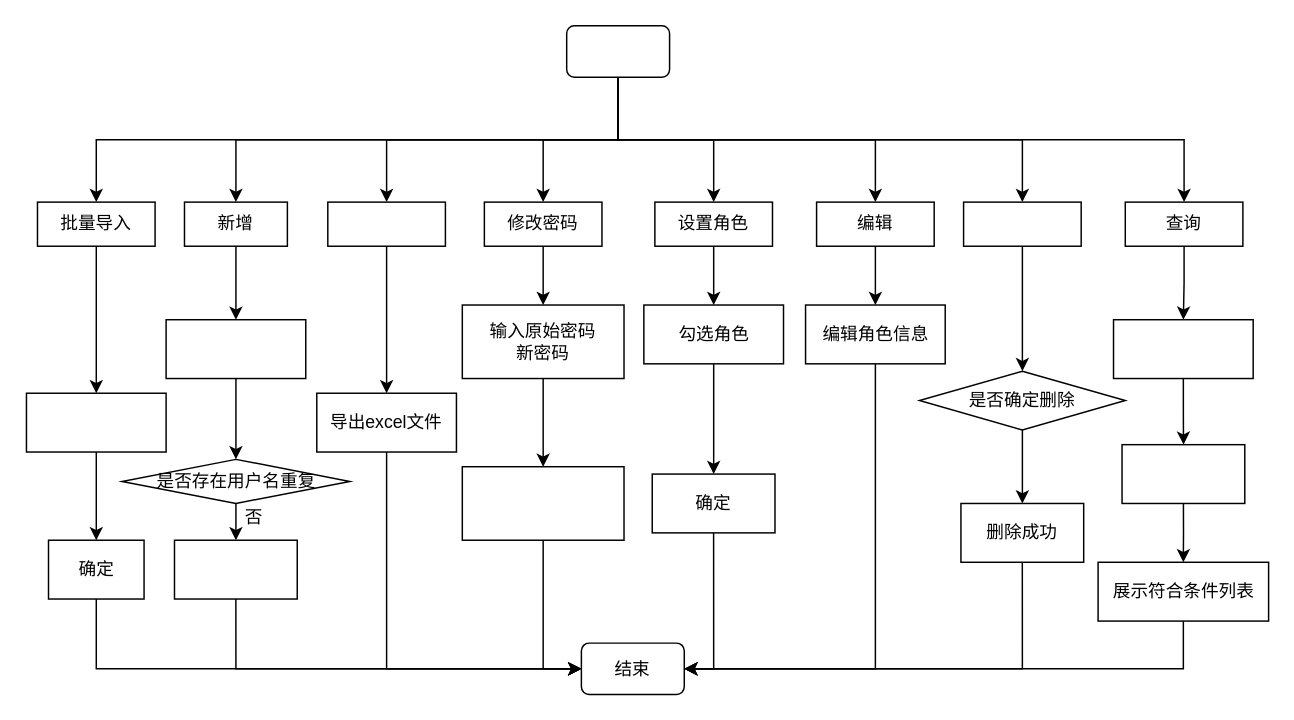
Image size: 1294x720. Some labels were removed from this diagram. Each missing label, with the box of its shape:
保存成功: (173, 539, 297, 599)
删除: (962, 201, 1081, 246)
填写用户信息: (165, 318, 306, 379)
开始: (565, 24, 670, 77)
搜索: (1121, 443, 1245, 503)
模版导出: (326, 201, 445, 246)
输入名称关键字: (1112, 318, 1253, 379)
选择导入文件: (25, 392, 166, 452)
选择是否登录时重设: (461, 465, 624, 540)
